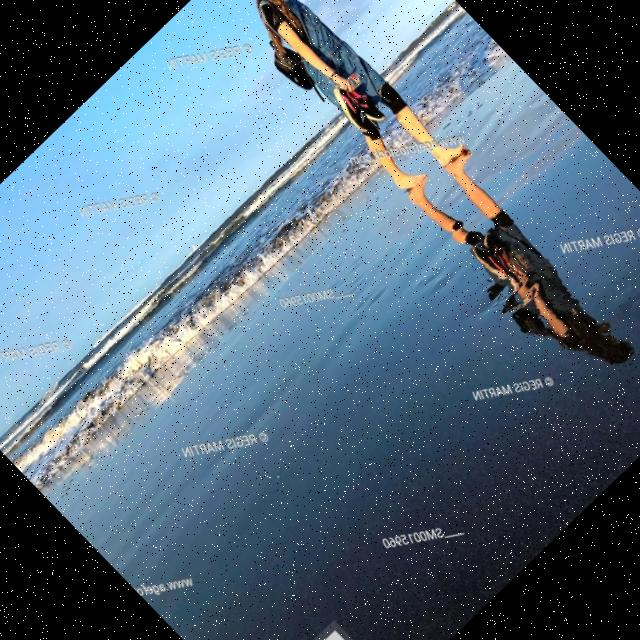Person: (201, 0, 469, 205)
